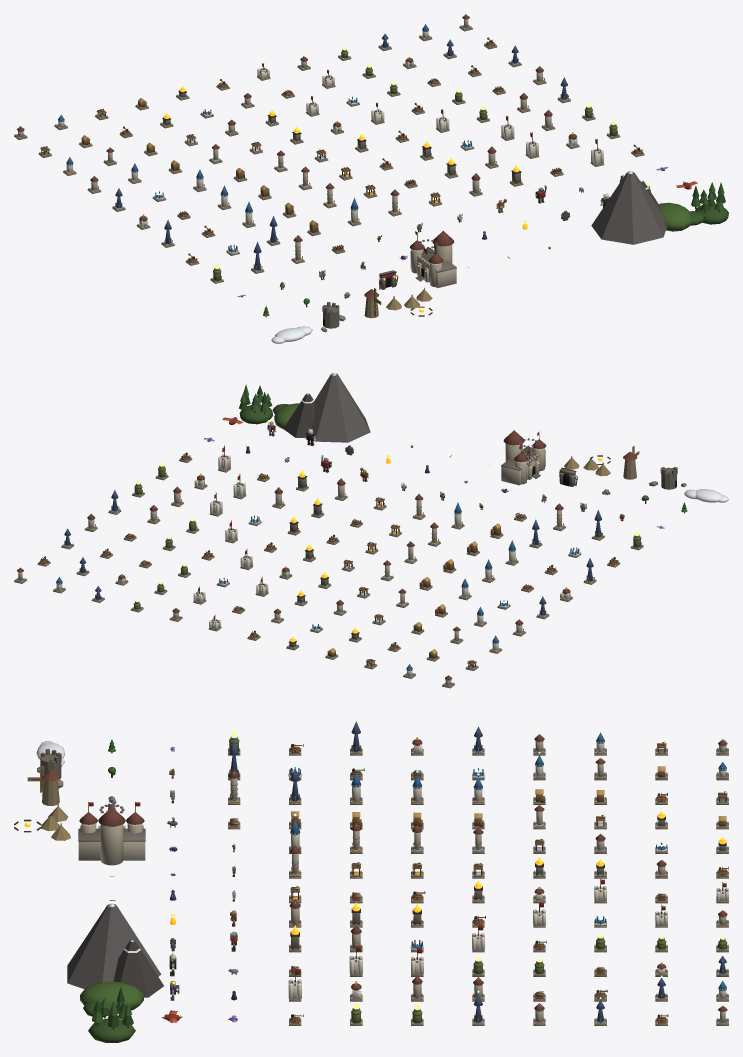
Rendered from rocanegra.glb.
3 views of the same model, one above another, from view 1: azimuth 30°, elevation 25°; view 2: azimuth 150°, elevation 25°; view 3: azimuth 270°, elevation 25° (orthographic). The views are drawn at different scales.
Parts seen in each view (by area): view 1: Cone.199, Cube.1650, Sphere.311; view 2: Cone.199, Cube.1650, Cone.200; view 3: Cone.199, Cube.1650, Cone.200, Sphere.311, Sphere.313, Cone.194, Cube.1651, Cone.219.
Boxes of the visible parts, x1,y1,x2,y2 form: Cone.199: [591, 171, 666, 244]; Cube.1650: [410, 244, 456, 288]; Sphere.311: [659, 202, 691, 231]; Cone.199: [311, 373, 370, 442]; Cube.1650: [501, 443, 545, 485]; Cone.200: [283, 393, 314, 437]; Cone.199: [67, 904, 161, 989]; Cube.1650: [78, 823, 145, 865]; Cone.200: [113, 940, 163, 997]; Sphere.311: [80, 981, 143, 1010]; Sphere.313: [88, 1018, 135, 1042]; Cone.194: [79, 807, 144, 826]; Cube.1651: [78, 804, 145, 841]; Cone.219: [41, 806, 70, 840].
Bounding box in the file's own units: 47.36 × 6.6 × 49.17.
